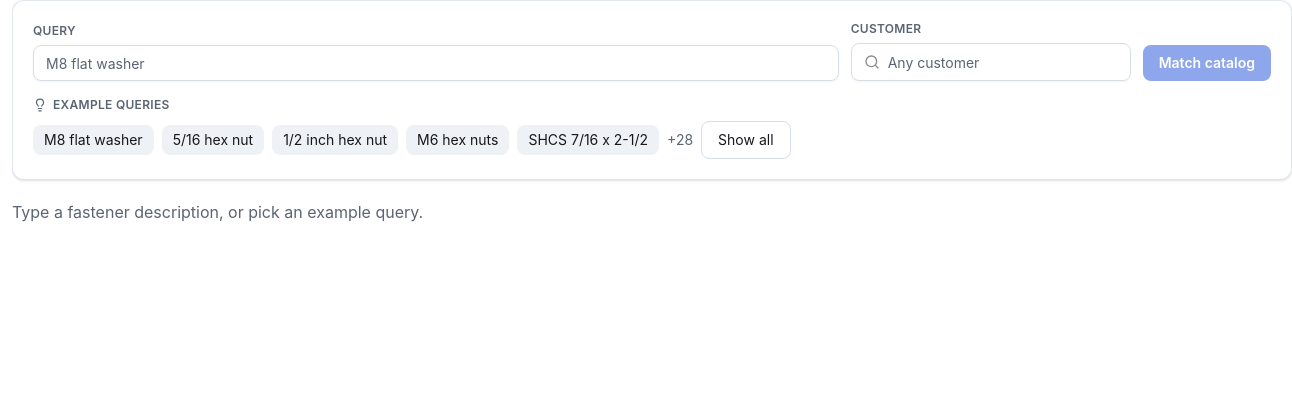
Test: ResultsPanel › never invents a nearby size when the catalog has no alternative to offer
In the field labelled "Query": (436, 63) x1=33 y1=45 x2=839 y2=81, type "M14 hex nut"
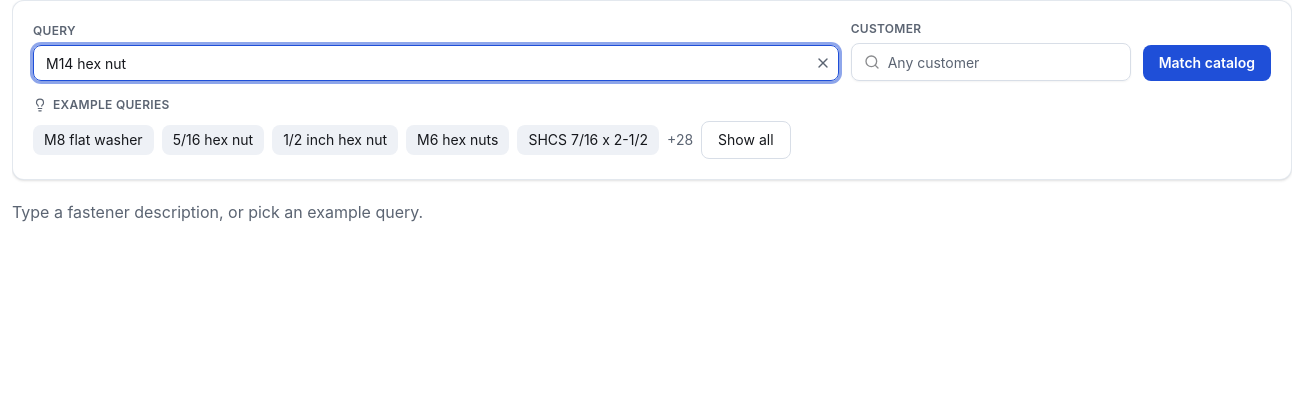
Click the button "Match catalog": (1207, 63) x1=1143 y1=45 x2=1271 y2=81
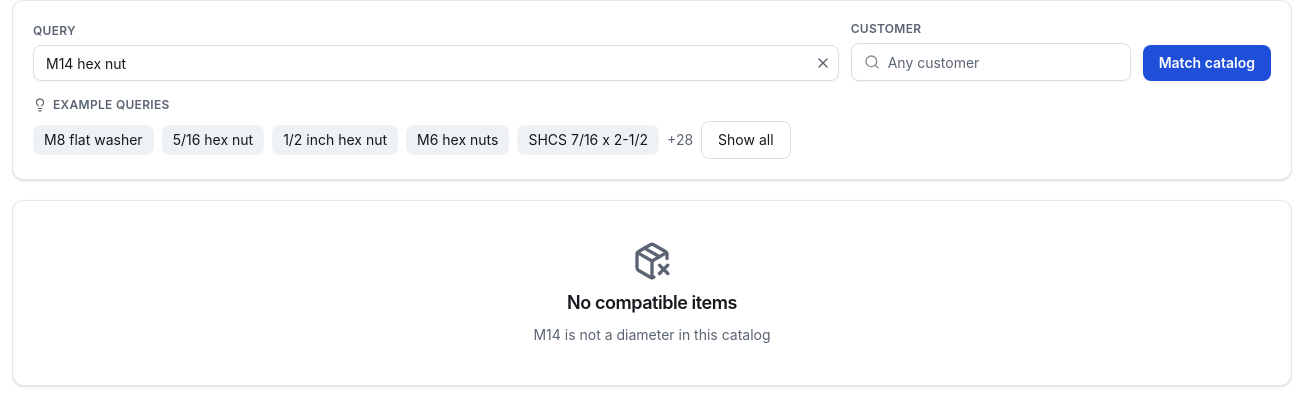
Expected: the heading "No compatible items" is shown, x1=567 y1=289 x2=737 y2=317
Expected: the text "M14 is not a diameter in this catalog" is shown, x1=533 y1=325 x2=770 y2=345
